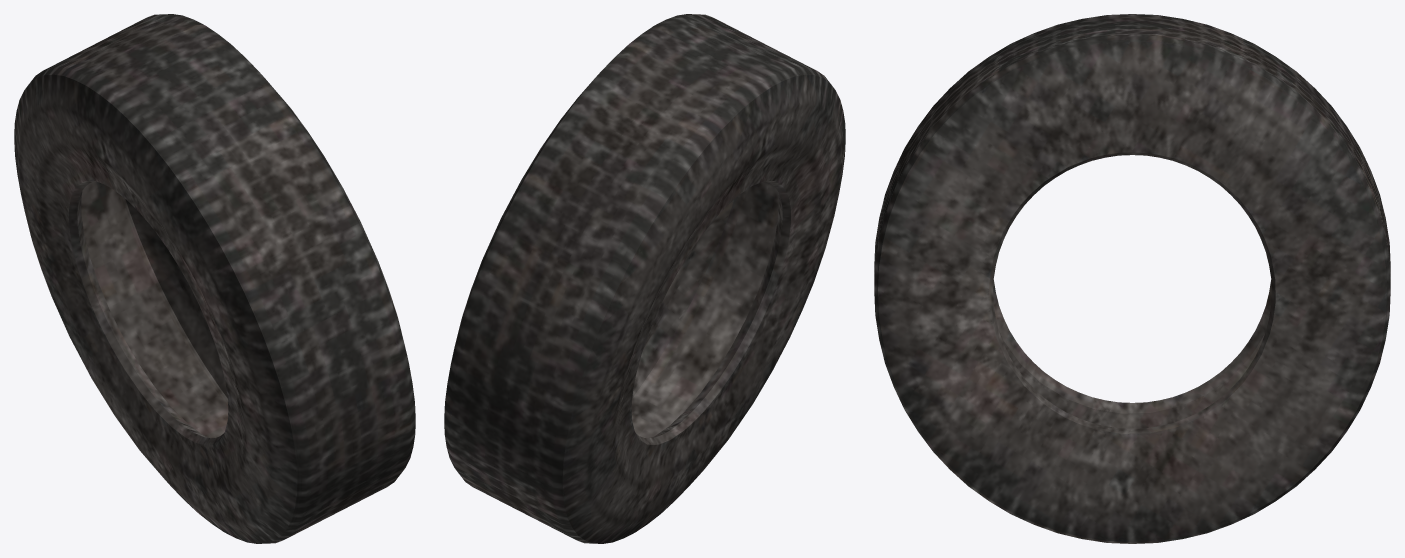
File: dirty_tire_04.glb
3 views of the same model, side by side, from view 1: azimuth 30°, elevation 25°; view 2: azimuth 150°, elevation 25°; view 3: azimuth 270°, elevation 25° (orthographic). The views are drawn at different scales.
Parts seen in each view (by area): view 1: dirty_tire_04; view 2: dirty_tire_04; view 3: dirty_tire_04.
Boxes of the visible parts, <box> form: dirty_tire_04: <box>14,14,415,543</box>; dirty_tire_04: <box>444,14,845,543</box>; dirty_tire_04: <box>874,14,1390,543</box>.
Size of what is drawn, in the model's own units: 0.316 by 0.62 by 0.6038.
Materials: 1 (1 with a texture image).
